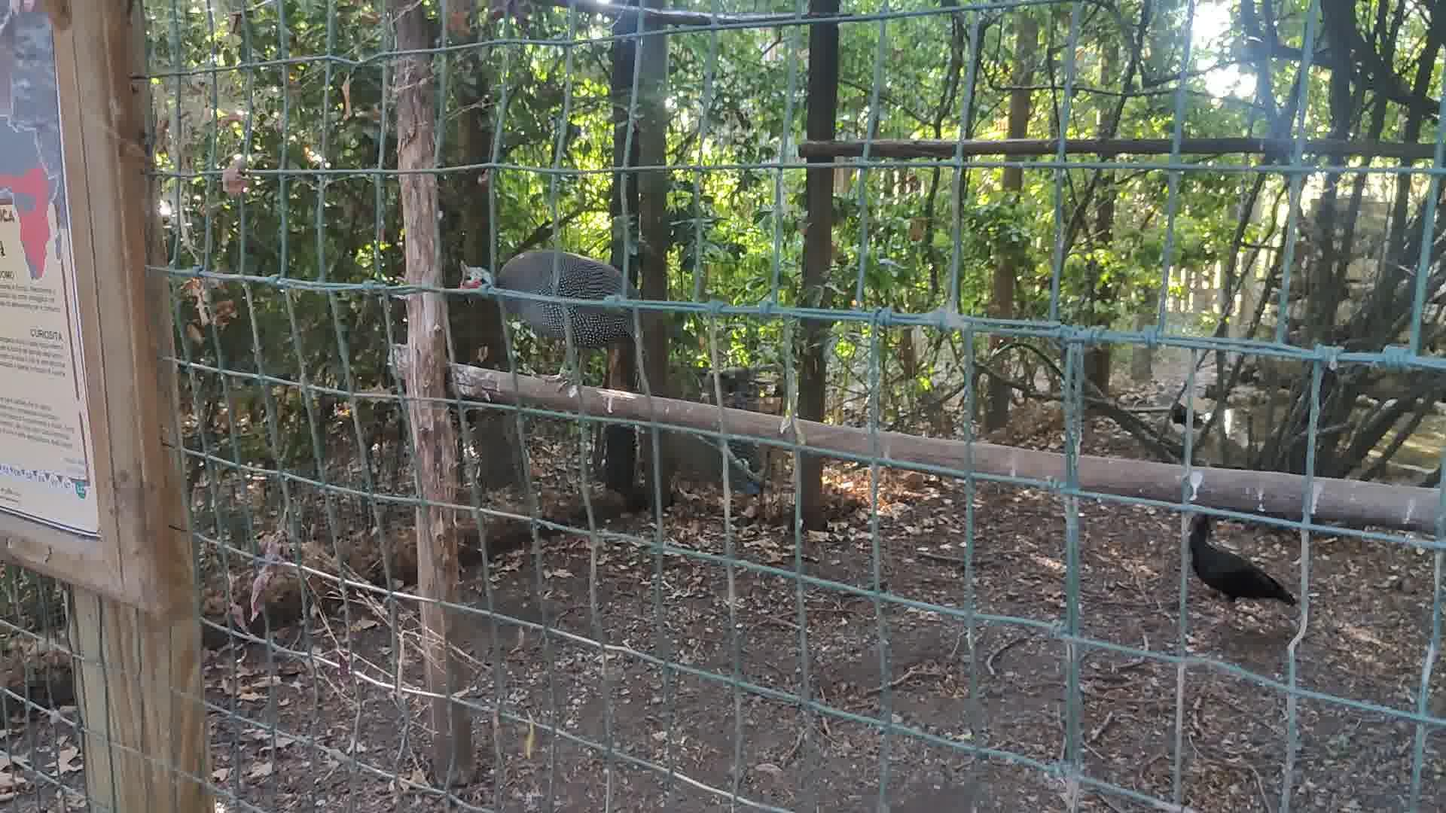apple: (459, 250, 641, 393), (1189, 514, 1296, 628)
